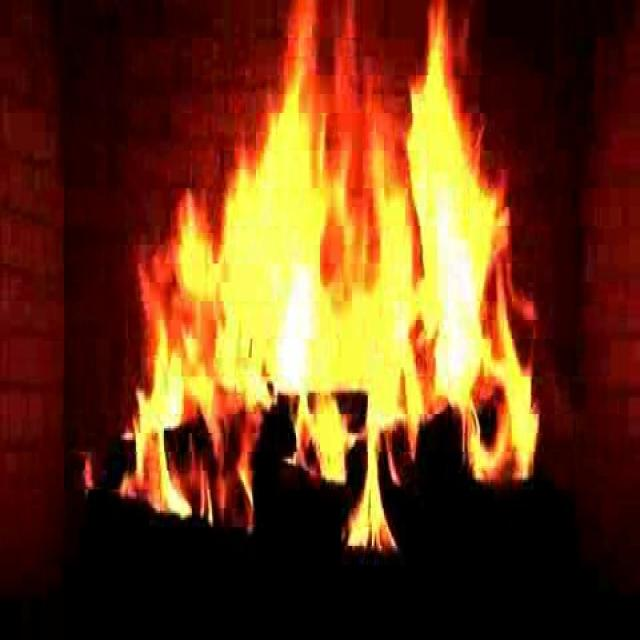fire: (138, 37, 526, 515)
